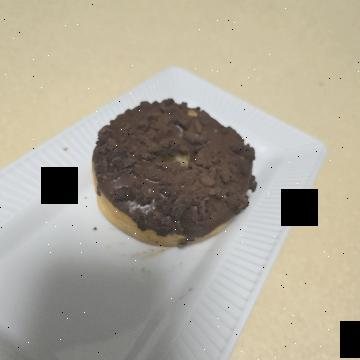doughnut: (75, 89, 252, 280)
